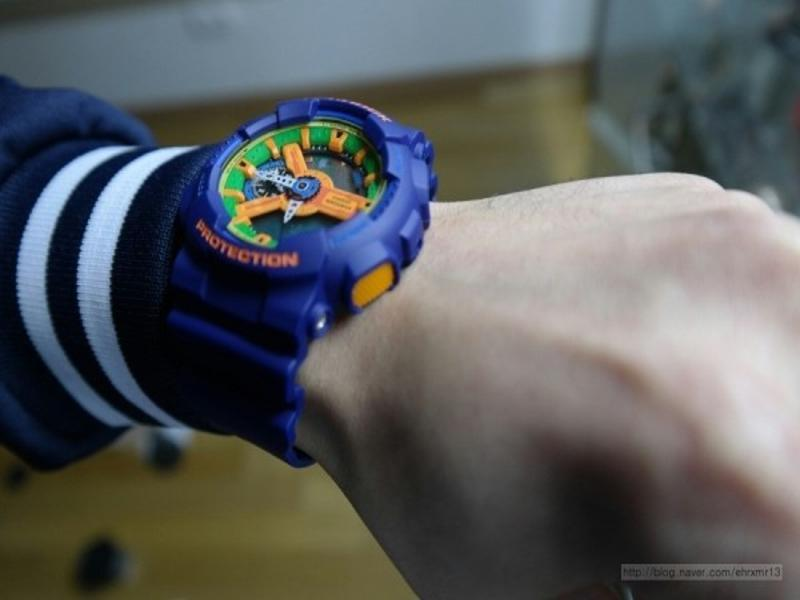watch: (175, 95, 441, 469)
